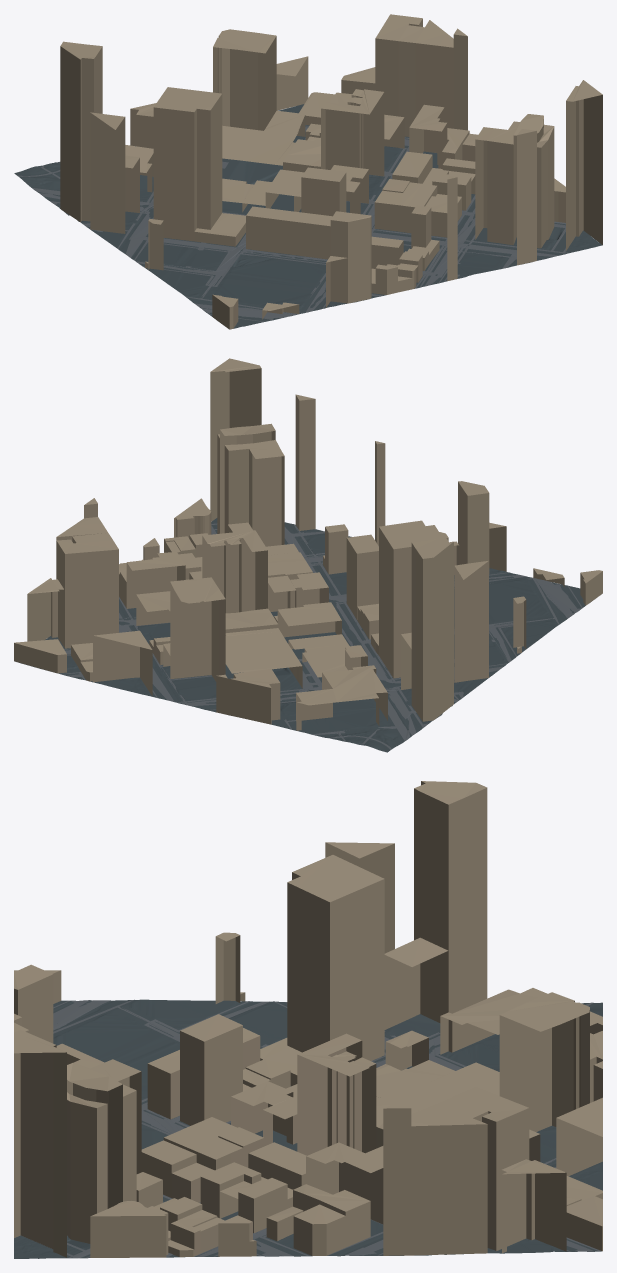
The model's file is epsg26910-1439-10891.lod0.glb.
3 renders of one model, top to bottom at view 1: azimuth 30°, elevation 25°; view 2: azimuth 150°, elevation 25°; view 3: azimuth 270°, elevation 25°, orthographic. The views are drawn at different scales.
Visible parts, largest first — view 1: epsg26910-1439-10891-lod0; view 2: epsg26910-1439-10891-lod0; view 3: epsg26910-1439-10891-lod0.
Part boxes in pixels (<box>): epsg26910-1439-10891-lod0: <box>14,14,602,329</box>; epsg26910-1439-10891-lod0: <box>14,358,602,752</box>; epsg26910-1439-10891-lod0: <box>14,781,602,1258</box>.
Bounding box in the file's own units: 384 × 167 × 384.
